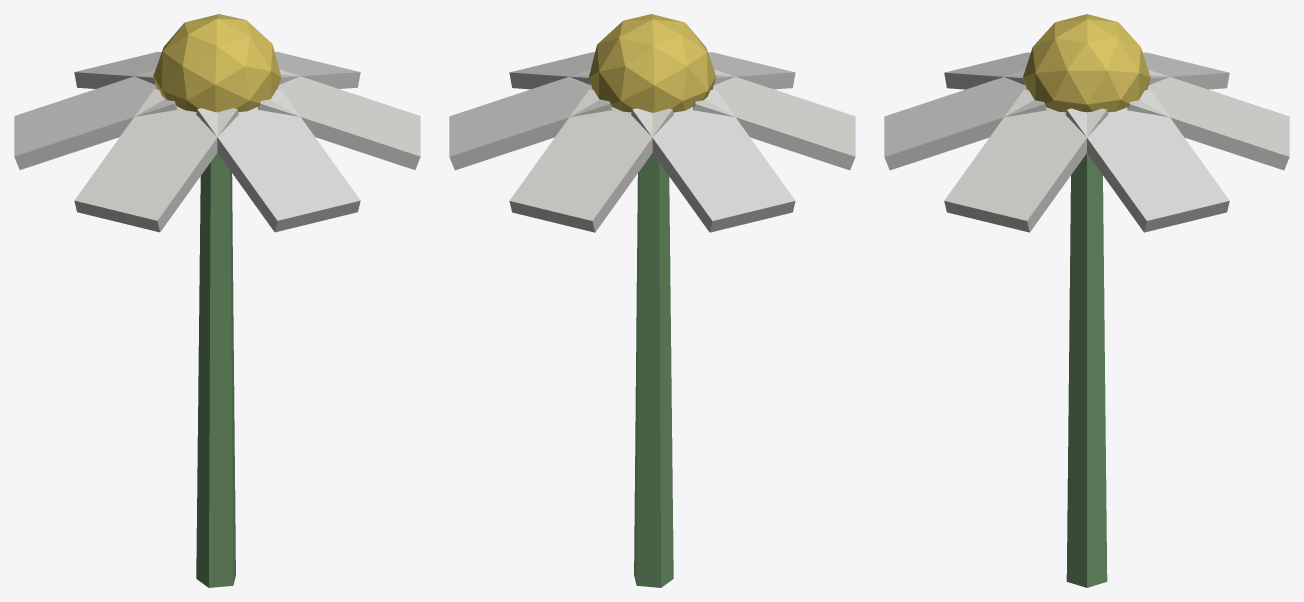
The model's file is nature_flower_04.glb.
The picture shows the model from 3 angles, left to right: view 1: azimuth 30°, elevation 25°; view 2: azimuth 150°, elevation 25°; view 3: azimuth 270°, elevation 25°; orthographic projection.
Visible parts, largest first — view 1: geometry_0; view 2: geometry_0; view 3: geometry_0.
Part boxes in pixels (<box>): geometry_0: <box>14,14,420,587</box>; geometry_0: <box>449,14,855,587</box>; geometry_0: <box>884,14,1289,587</box>.
Bounding box in the file's own units: 0.3749 × 0.58 × 0.3809.
